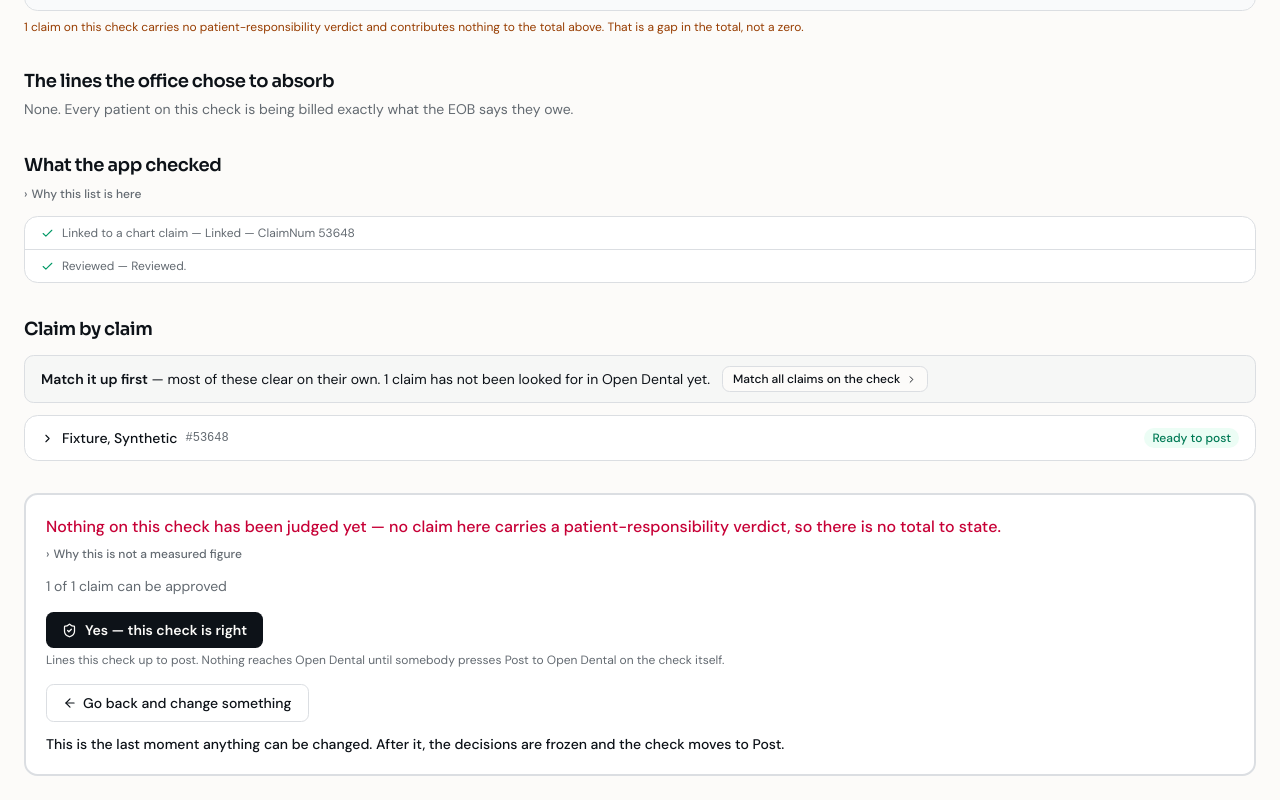
Test: the remittance detail › a partial approve names what was queued AND what was withheld
The width and height of the screenshot is (1280, 800).
(page scrolled)
Step 1. Click the button with test id "approve-button" → (155, 630), box [46,612,263,648]
(page scrolled)
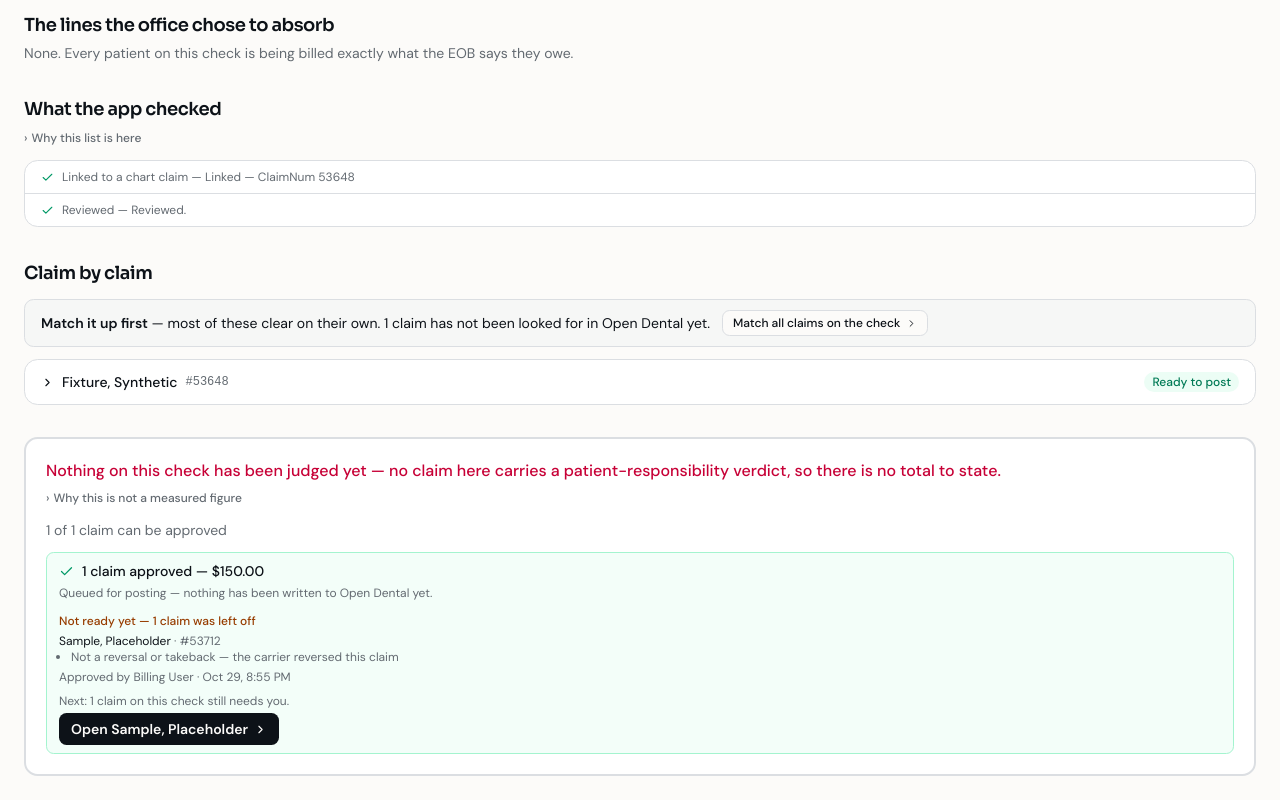
Result: the element with test id "approve-withheld" shows "1 claim was left off" at [59,613,399,665]
Result: the element with test id "approve-withheld" shows "Sample, Placeholder" at [59,633,171,649]
Result: the element with test id "approve-withheld" shows "Not a reversal or takeback" at [71,649,216,665]
